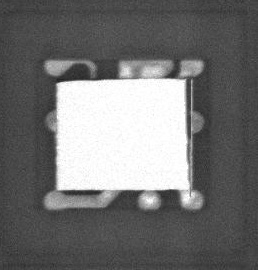DIE_BROKEN: (183, 76, 193, 186)
